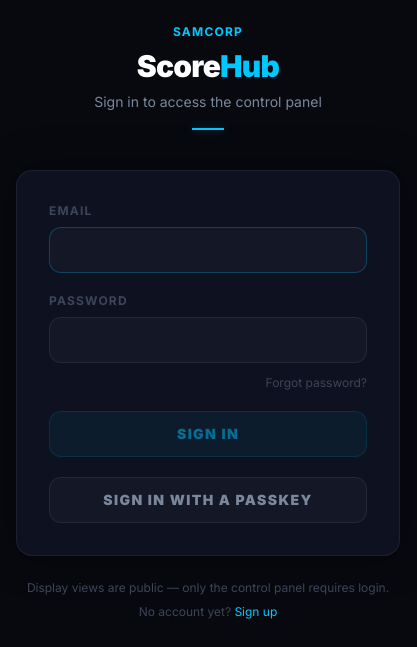
LoginPage › shows an invalid-email message for a malformed address
This screenshot has width=417, height=647.
Type "not-an-email" into the field at [208, 250], box [49,227,367,273]
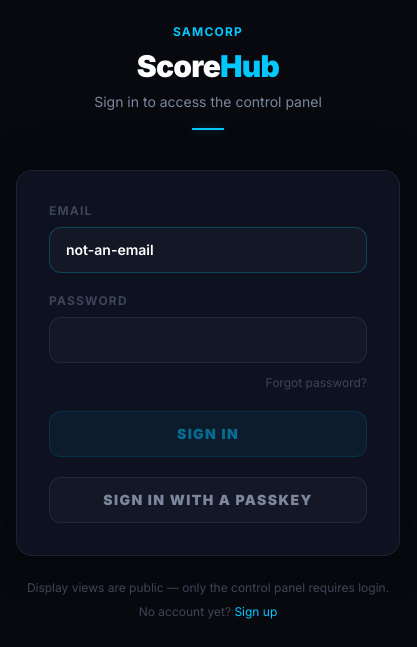
Leave the field, box [49,227,367,273]
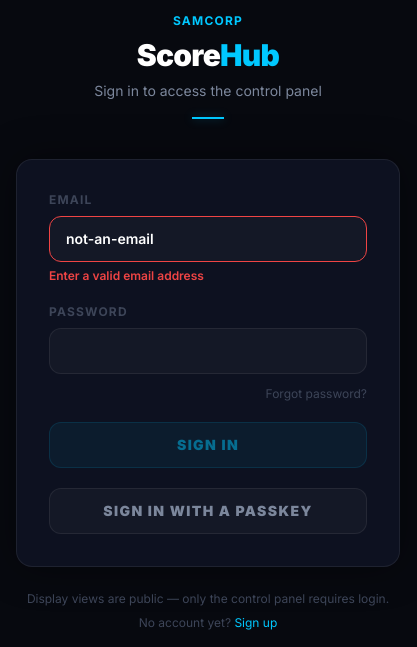
expect the text "Enter a valid email address" is shown: met, box [49,268,204,283]
